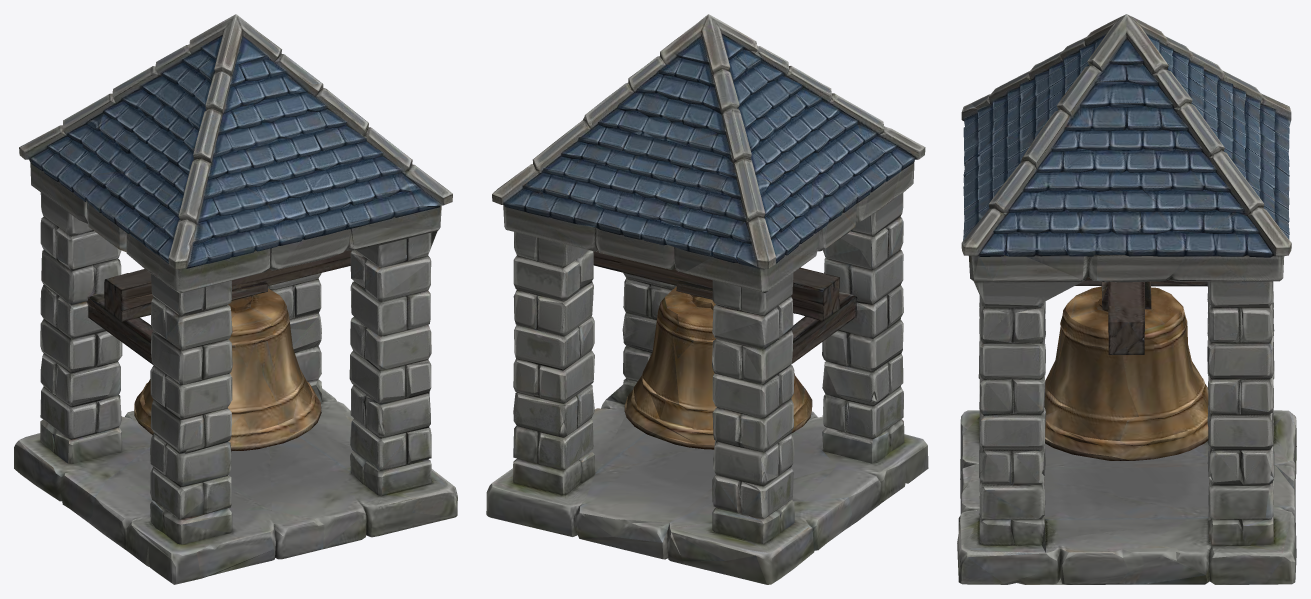
Rendered from bell_tower_3d.glb.
3 renders of one model, left to right at view 1: azimuth 30°, elevation 25°; view 2: azimuth 150°, elevation 25°; view 3: azimuth 270°, elevation 25°, orthographic. The views are drawn at different scales.
Visible parts, largest first — view 1: Mesh_0; view 2: Mesh_0; view 3: Mesh_0.
Boxes of the visible parts, box(x1,y1,x2,y2) form: Mesh_0: box(14, 14, 457, 584); Mesh_0: box(486, 14, 928, 584); Mesh_0: box(957, 14, 1296, 584).
Bounding box in the file's own units: 1.76 × 2.81 × 1.73.
Materials: 1 (1 with a texture image).
